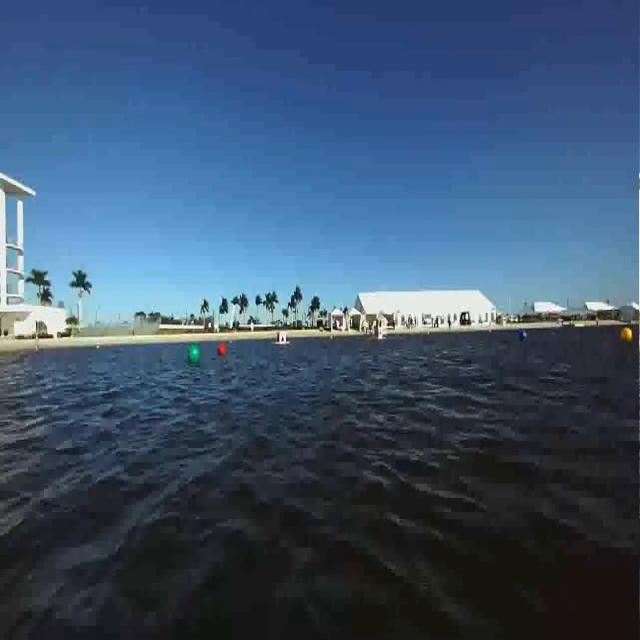green-buoy: (187, 343, 200, 366)
red-buoy: (218, 344, 226, 356)
yellow-buoy: (622, 326, 634, 345)
